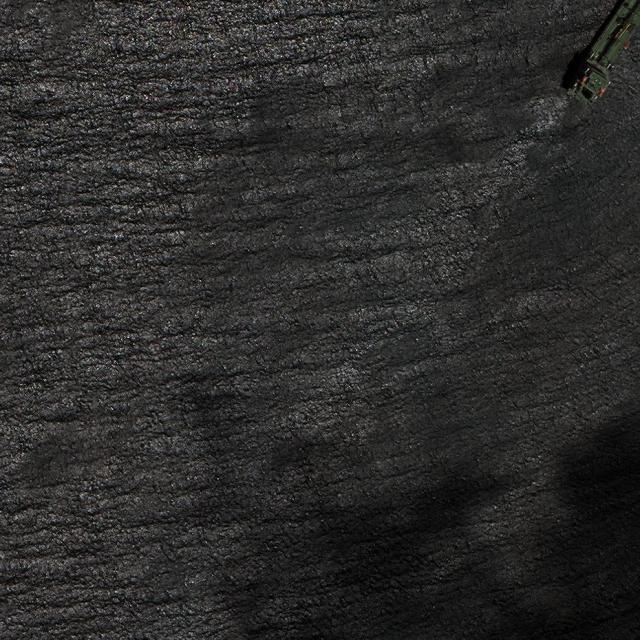Oil Tanker: (565, 2, 639, 102)
